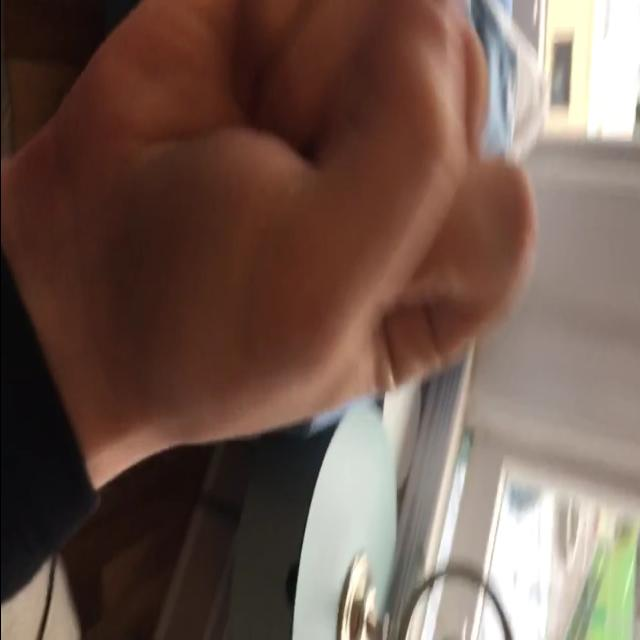Rock: (71, 0, 538, 452)
